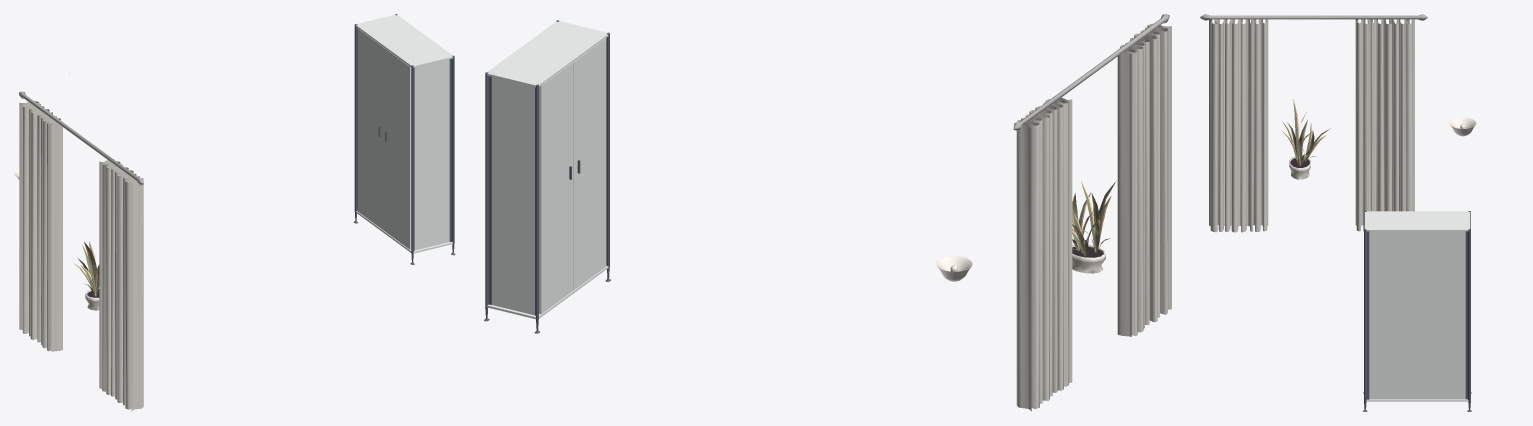
Rendered from room_level4_group_07_lev1.glb.
3 renders of one model, left to right at view 1: azimuth 30°, elevation 25°; view 2: azimuth 150°, elevation 25°; view 3: azimuth 270°, elevation 25°, orthographic. The views are drawn at different scales.
Visible parts, largest first — view 1: mesh162__efa6d3ee_750a_0141_9830_b037c8be7c2a__0_lev1, mesh149__6dab0233_c0c7_3248_b49c_e086db919bce__0_lev1, mesh148__feee19cc_a133_314a_bca5_445bc3350ad5__0_lev1, mesh161__d84e37c8_3471_3445_812f_db43b834c156__0_lev1, mesh136__b29471fd_cef1_1544_8682_05ea9859b70e__0_lev1; view 2: mesh162__efa6d3ee_750a_0141_9830_b037c8be7c2a__0_lev1, mesh149__6dab0233_c0c7_3248_b49c_e086db919bce__0_lev1, mesh148__feee19cc_a133_314a_bca5_445bc3350ad5__0_lev1, mesh136__b29471fd_cef1_1544_8682_05ea9859b70e__0_lev1, mesh161__d84e37c8_3471_3445_812f_db43b834c156__0_lev1, mesh133__875af5bc_b833_684f_9ffe_54300b30a46d__0_lev1, mesh137__41213a15_522e_5440_98e7_76d05bfbb304__0_lev1; view 3: mesh162__efa6d3ee_750a_0141_9830_b037c8be7c2a__0_lev1, mesh149__6dab0233_c0c7_3248_b49c_e086db919bce__0_lev1, mesh148__feee19cc_a133_314a_bca5_445bc3350ad5__0_lev1, mesh161__d84e37c8_3471_3445_812f_db43b834c156__0_lev1, mesh136__b29471fd_cef1_1544_8682_05ea9859b70e__0_lev1, mesh137__41213a15_522e_5440_98e7_76d05bfbb304__0_lev1, mesh133__875af5bc_b833_684f_9ffe_54300b30a46d__0_lev1.
Part boxes in pixels (x1,y1,x2,y2): mesh162__efa6d3ee_750a_0141_9830_b037c8be7c2a__0_lev1: (19, 101, 143, 411); mesh149__6dab0233_c0c7_3248_b49c_e086db919bce__0_lev1: (355, 14, 452, 253); mesh148__feee19cc_a133_314a_bca5_445bc3350ad5__0_lev1: (353, 14, 455, 264); mesh161__d84e37c8_3471_3445_812f_db43b834c156__0_lev1: (19, 91, 143, 185); mesh136__b29471fd_cef1_1544_8682_05ea9859b70e__0_lev1: (74, 241, 99, 296); mesh162__efa6d3ee_750a_0141_9830_b037c8be7c2a__0_lev1: (1016, 23, 1171, 411); mesh149__6dab0233_c0c7_3248_b49c_e086db919bce__0_lev1: (487, 21, 608, 319); mesh148__feee19cc_a133_314a_bca5_445bc3350ad5__0_lev1: (484, 20, 610, 333); mesh136__b29471fd_cef1_1544_8682_05ea9859b70e__0_lev1: (1072, 181, 1115, 256); mesh161__d84e37c8_3471_3445_812f_db43b834c156__0_lev1: (1013, 14, 1169, 131); mesh133__875af5bc_b833_684f_9ffe_54300b30a46d__0_lev1: (936, 256, 972, 281); mesh137__41213a15_522e_5440_98e7_76d05bfbb304__0_lev1: (1072, 182, 1114, 255); mesh162__efa6d3ee_750a_0141_9830_b037c8be7c2a__0_lev1: (1209, 19, 1414, 232); mesh149__6dab0233_c0c7_3248_b49c_e086db919bce__0_lev1: (1364, 211, 1470, 401); mesh148__feee19cc_a133_314a_bca5_445bc3350ad5__0_lev1: (1363, 211, 1471, 411); mesh161__d84e37c8_3471_3445_812f_db43b834c156__0_lev1: (1200, 14, 1427, 20); mesh136__b29471fd_cef1_1544_8682_05ea9859b70e__0_lev1: (1282, 99, 1330, 165); mesh137__41213a15_522e_5440_98e7_76d05bfbb304__0_lev1: (1281, 100, 1329, 165); mesh133__875af5bc_b833_684f_9ffe_54300b30a46d__0_lev1: (1449, 117, 1476, 136).
Bounding box in the file's own units: 55.27 × 30.57 × 40.46.
